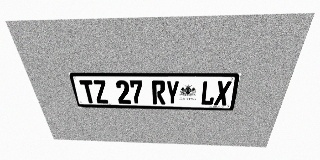2: (115, 80, 131, 104)
7: (129, 80, 144, 104)
L: (200, 81, 217, 105)
R: (152, 80, 165, 104)
T: (79, 80, 97, 103)
X: (214, 81, 232, 106)
Y: (166, 80, 179, 105)
Z: (92, 80, 109, 103)
